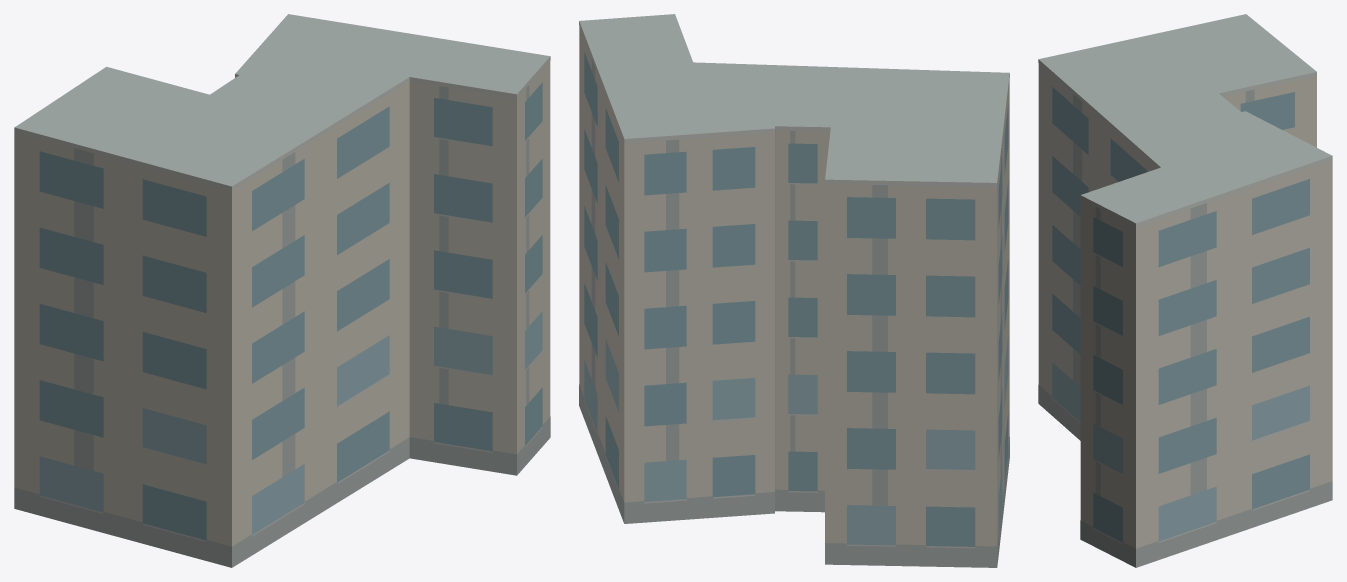
File: survey-upis-32981658.glb
3 views of the same model, side by side, from view 1: azimuth 30°, elevation 25°; view 2: azimuth 150°, elevation 25°; view 3: azimuth 270°, elevation 25° (orthographic). The views are drawn at different scales.
Parts seen in each view (by area): view 1: survey-upis-32981658.tmp; view 2: survey-upis-32981658.tmp; view 3: survey-upis-32981658.tmp.
Part boxes in pixels (<box>): survey-upis-32981658.tmp: <box>14,14,550,567</box>; survey-upis-32981658.tmp: <box>579,14,1009,567</box>; survey-upis-32981658.tmp: <box>1038,14,1332,567</box>.
Size of the model in its own units: 28.21 by 21.63 by 16.74.
